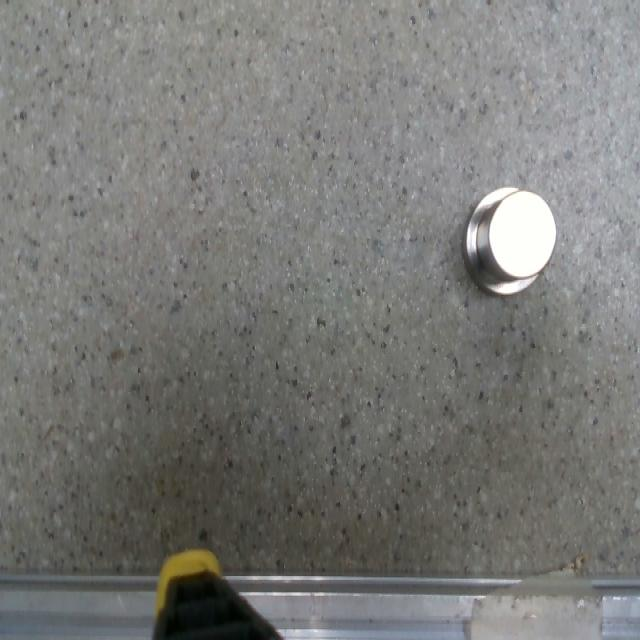sensor: (463, 184, 558, 295)
